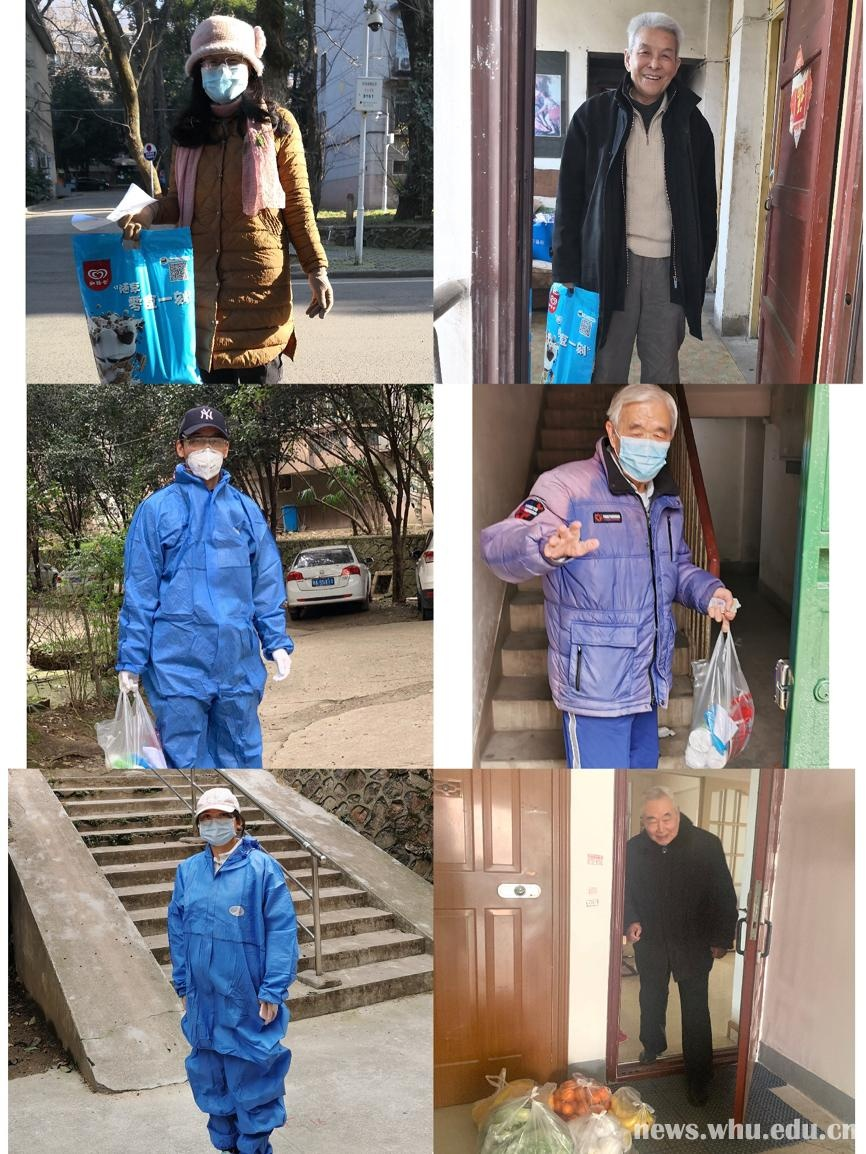correctlyWear: (603, 413, 673, 481), (196, 50, 248, 106), (174, 429, 231, 480), (195, 810, 237, 846)
noWear: (624, 37, 680, 97), (639, 803, 680, 847)
